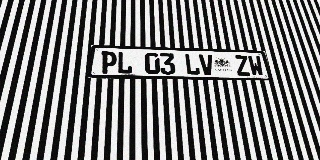plate: (88, 45, 272, 80)
